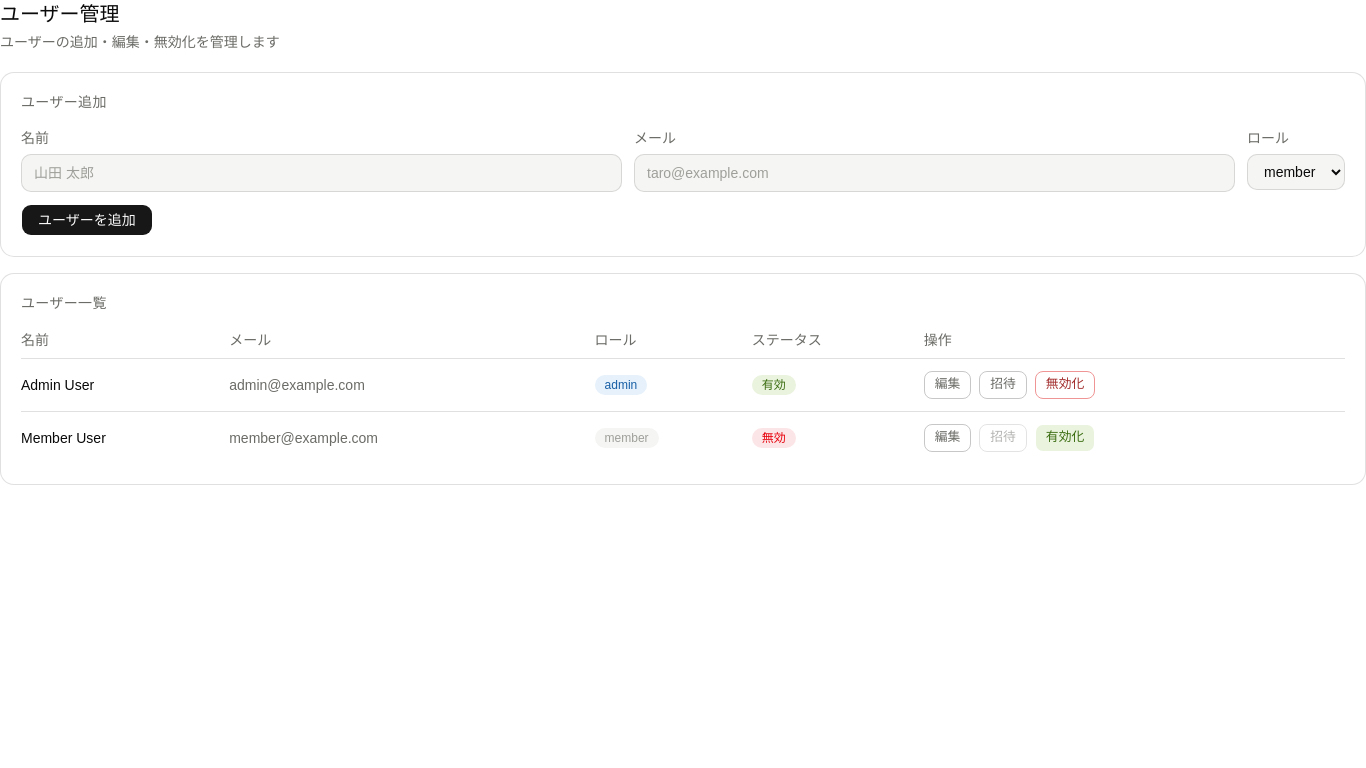
AdminUsersPage › opens edit modal when clicking edit button
The image size is (1366, 768).
Click the button "編集" in the row of "Admin User" at coordinates (948, 384), box [924, 370, 971, 398]
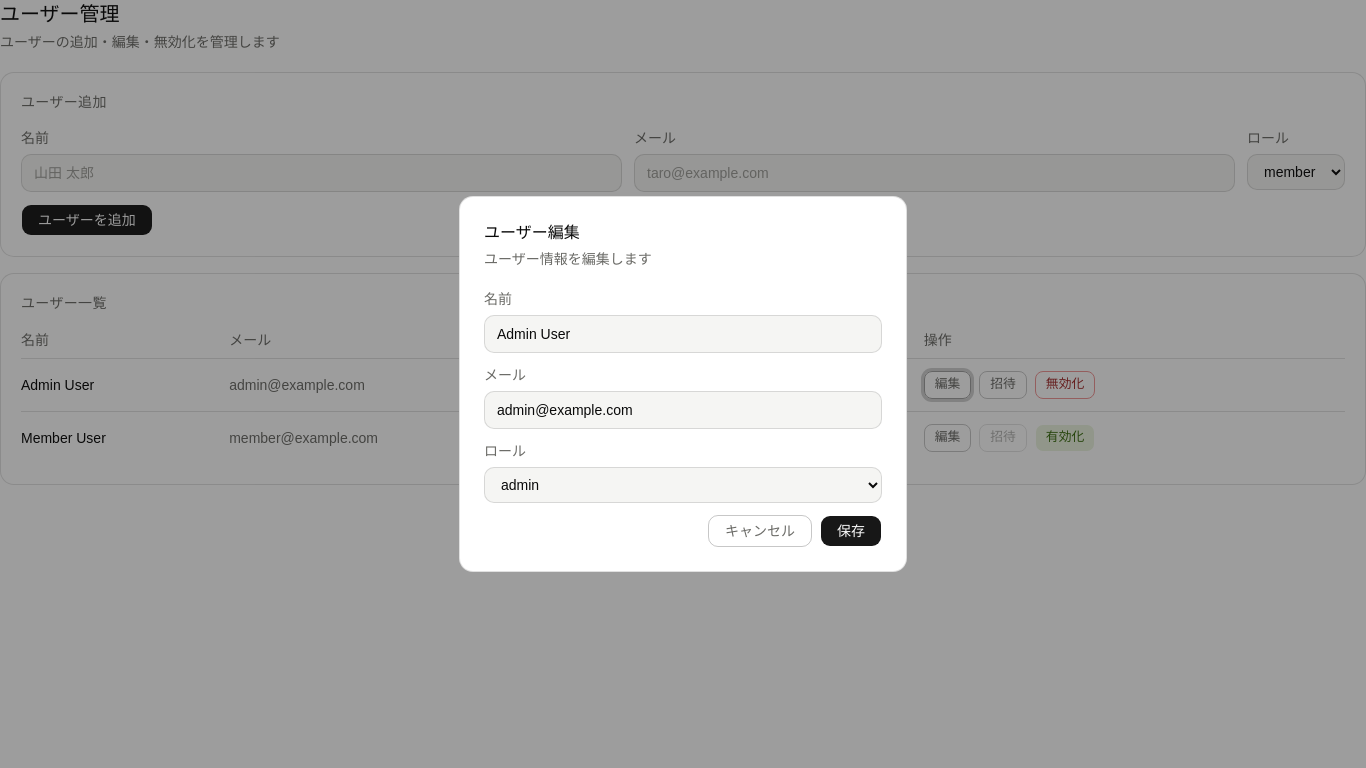
Now the dialog "ユーザー編集" is shown
